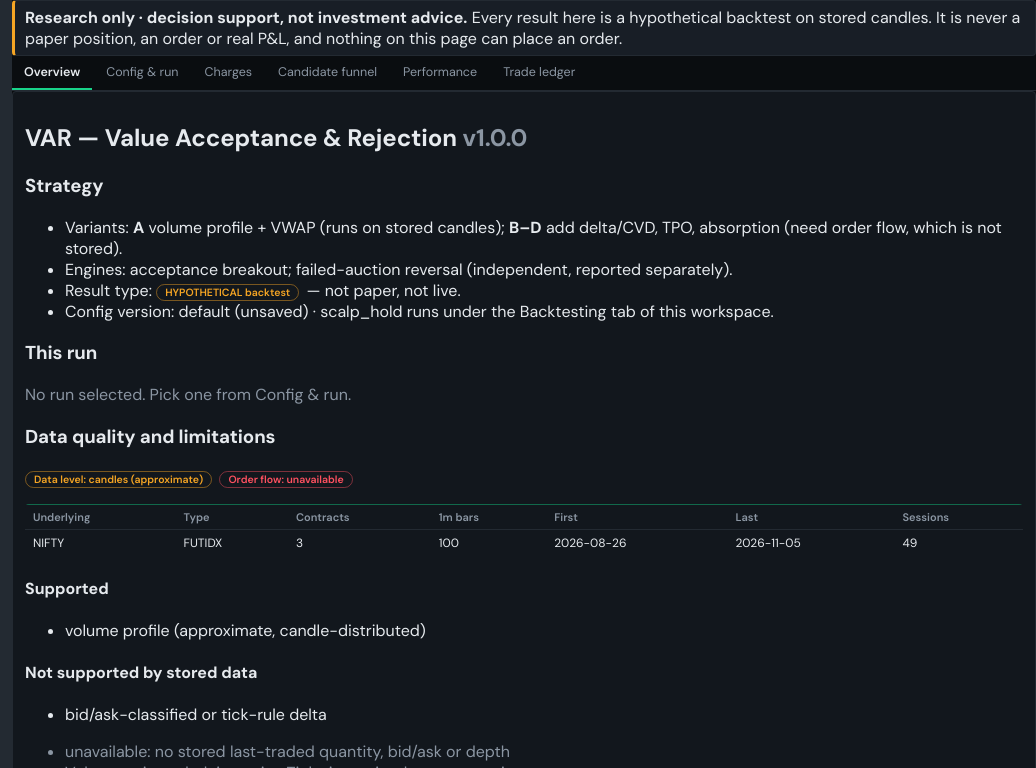
VarIntraday › labels the work research-only and shows order flow as unavailable rather than zero
Expected: the text "Research only · decision support, not investment advice." is shown, [25,7,467,28]
Expected: the text "Order flow: unavailable" is shown, [219,471,353,488]
What coordinates should you click on to do the following:
click the button "Config & run"
I would click on:
 (142, 73)
Its box is [94,56,191,90].
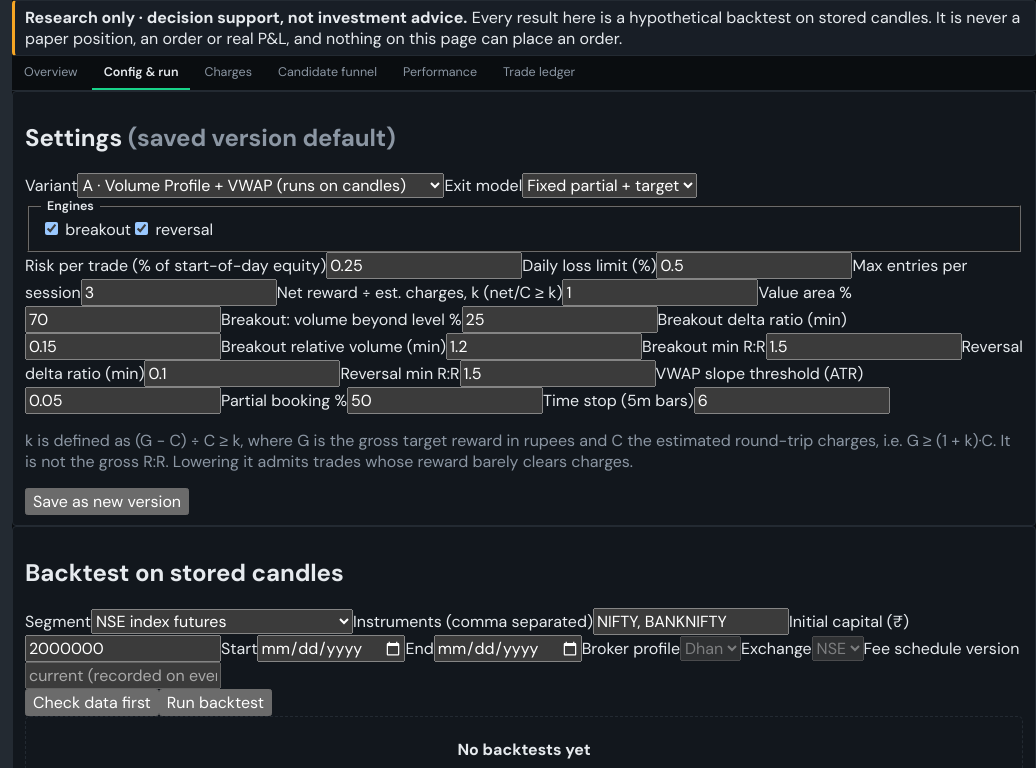
Expected: the text "No backtests yet" is shown, [457,739,591,760]
